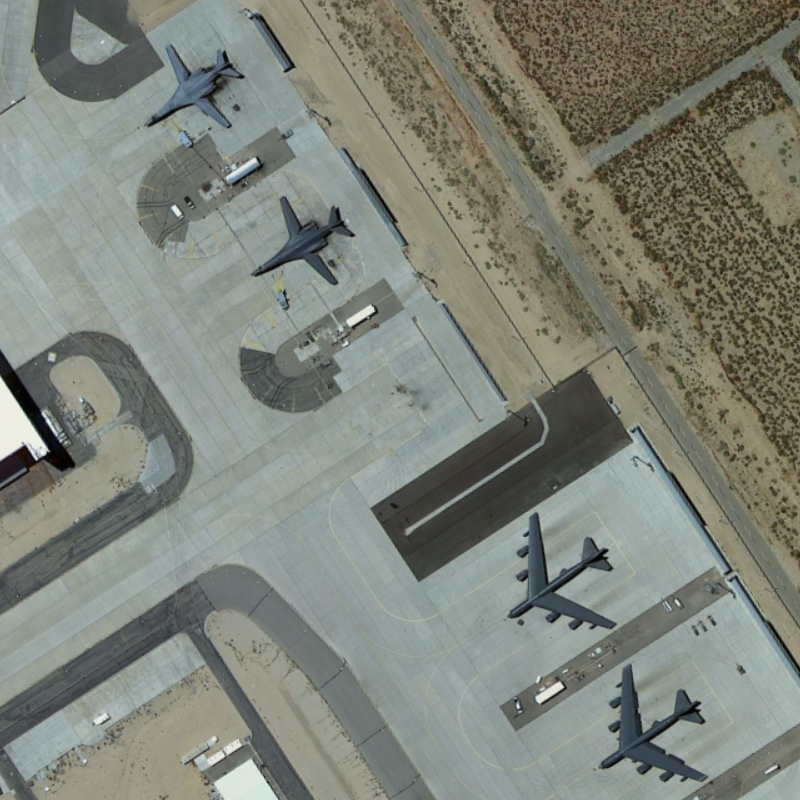A10: (245, 190, 363, 291), (136, 35, 243, 137)
A8: (499, 502, 623, 639), (590, 653, 713, 789)
